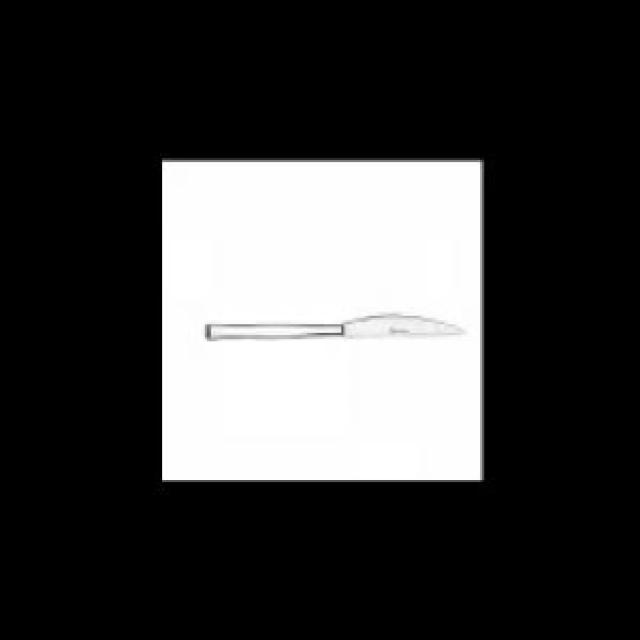knife: (200, 312, 470, 346)
